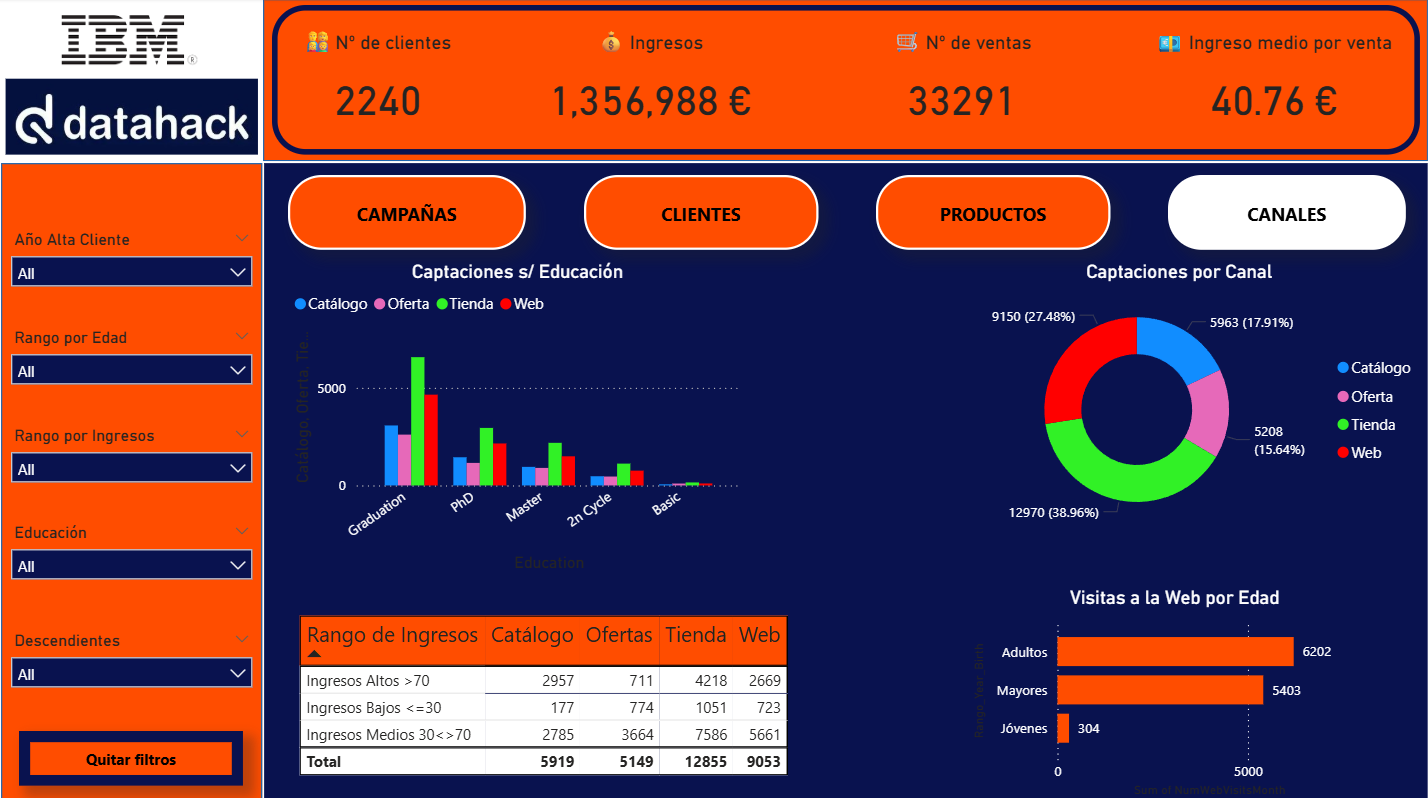

This screenshot's page, from the dashboard's own definition file:
{"tool":"powerbi","page":{"name":"Canales","canvas":[1280,720],"ordinal":3},"visuals":[{"type":"shape","box":[234.8,0,1045.2,147.1],"z":0},{"type":"shape","box":[243.9,6,1028,134],"z":1000},{"type":"shape","box":[0,147.1,235.8,572.5],"z":2000},{"type":"slicer","fields":{"Values":["Dim_Customers.Rango_Year_Birth"]},"box":[0,291.3,235.8,87.7],"z":3000},{"type":"slicer","fields":{"Values":["Dim_Calendar_DAX.Date.Variación.Jerarquía de fechas.Año"]},"box":[0,203.6,235.8,87.7],"z":4000},{"type":"slicer","fields":{"Values":["Dim_Customers.Rango_Income"]},"box":[0,379,235.8,86.7],"z":5000},{"type":"slicer","fields":{"Values":["Dim_Customers.Education"]},"box":[0,465.6,235.8,87.7],"z":6000},{"type":"actionButton","box":[17.1,656.1,200.6,49.4],"z":7000},{"type":"slicer","fields":{"Values":["Dim_Customers.Descendientes"]},"box":[0,562.4,235.8,80.6],"z":8000},{"type":"image","box":[38.3,0,151.2,73.6],"z":9000},{"type":"image","box":[0,66.5,235.8,80.6],"z":10000},{"type":"shape","box":[235.8,147.1,1044.2,572.5],"z":11000},{"type":"actionButton","box":[258,158.2,212.7,66.5],"z":12000},{"type":"actionButton","box":[523.1,158.2,209.6,66.5],"z":13000},{"type":"actionButton","box":[784.1,158.2,209.6,66.5],"z":14000},{"type":"actionButton","box":[1046.2,158.2,212.7,66.5],"z":15000},{"type":"card","title":"👨👩👧👦 Nº de clientes","fields":{"Values":["DAX_Measures.Total Clientes"]},"box":[234.8,26.2,207.6,105.8],"z":16000},{"type":"card","title":"💰 Ingresos","fields":{"Values":["DAX_Measures.Total Ventas"]},"box":[442.5,26.2,279.2,105.8],"z":17000},{"type":"card","title":"🛒 Nº de ventas","fields":{"Values":["DAX_Measures.Nº total ventas"]},"box":[721.6,26.2,279.2,105.8],"z":18000},{"type":"card","title":"💶 Ingreso medio por venta","fields":{"Values":["DAX_Measures.Ingreso medio por compra"]},"box":[1000.8,26.2,279.2,105.8],"z":19000},{"type":"donutChart","title":"Captaciones por Canal","fields":{"Y":["DAX_Measures.Ventas Catalogo","DAX_Measures.Ventas Deals","DAX_Measures.Ventas Store","DAX_Measures.Ventas Web"]},"box":[833.5,234.8,444.5,248.9],"z":20000},{"type":"clusteredColumnChart","title":"Captaciones s/ Educación","fields":{"Category":["Dim_Customers.Education"],"Y":["DAX_Measures.Ventas Catalogo","DAX_Measures.Ventas Deals","DAX_Measures.Ventas Store","DAX_Measures.Ventas Web"]},"box":[258,234.8,411.2,284.2],"z":21000},{"type":"tableEx","fields":{"Values":["Dim_Customers.Rango_Income","DAX_Measures.Ventas Catalogo","DAX_Measures.Ventas Deals","DAX_Measures.Ventas Store","DAX_Measures.Ventas Web"]},"box":[262,548.3,473.7,164.3],"z":22000},{"type":"barChart","title":"Visitas a la Web por Edad","fields":{"Category":["Dim_Customers.Rango_Year_Birth"],"Y":["Sum(Dim_Customers.NumWebVisitsMonth)"]},"box":[865.8,526.5,371.9,193.5],"z":23000}]}

Visuals, with their boxes in screenshot pixels (x1, y1, x2, y2), scaled from the page's 1280x720 canvas onto the 1428x798 screenshot:
shape: box=[262, 0, 1427, 163]
shape: box=[272, 7, 1419, 155]
shape: box=[0, 163, 263, 797]
slicer - Dim_Customers.Rango_Year_Birth: box=[0, 323, 263, 420]
slicer - Dim_Calendar_DAX.Date.Variación.Jerarquía de fechas.Año: box=[0, 226, 263, 323]
slicer - Dim_Customers.Rango_Income: box=[0, 420, 263, 516]
slicer - Dim_Customers.Education: box=[0, 516, 263, 613]
actionButton: box=[19, 727, 243, 782]
slicer - Dim_Customers.Descendientes: box=[0, 623, 263, 713]
image: box=[43, 0, 211, 82]
image: box=[0, 74, 263, 163]
shape: box=[263, 163, 1427, 797]
actionButton: box=[288, 175, 525, 249]
actionButton: box=[584, 175, 817, 249]
actionButton: box=[875, 175, 1109, 249]
actionButton: box=[1167, 175, 1404, 249]
"👨👩👧👦 Nº de clientes" card: box=[262, 29, 494, 146]
"💰 Ingresos" card: box=[494, 29, 805, 146]
"🛒 Nº de ventas" card: box=[805, 29, 1117, 146]
"💶 Ingreso medio por venta" card: box=[1117, 29, 1427, 146]
"Captaciones por Canal" donutChart: box=[930, 260, 1426, 536]
"Captaciones s/ Educación" clusteredColumnChart: box=[288, 260, 747, 575]
tableEx - Dim_Customers.Rango_Income x DAX_Measures.Ventas Catalogo: box=[292, 608, 821, 790]
"Visitas a la Web por Edad" barChart: box=[966, 584, 1381, 797]
